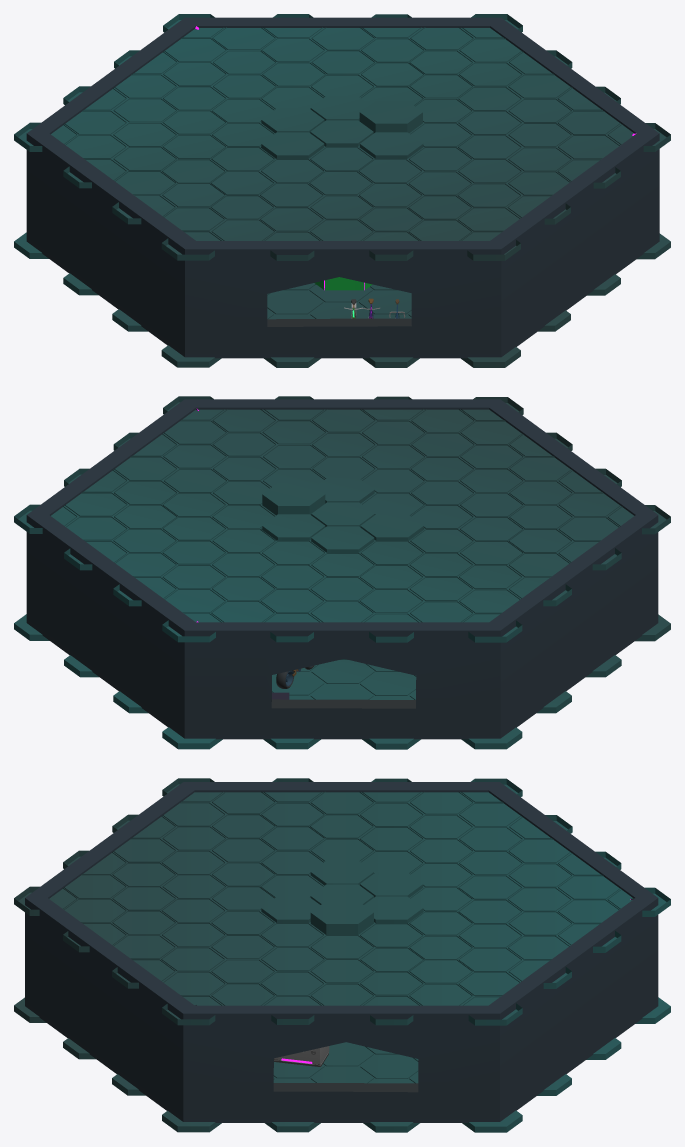
File: LabIngenia.fbx
3 views of the same model, one above another, from view 1: azimuth 30°, elevation 25°; view 2: azimuth 150°, elevation 25°; view 3: azimuth 270°, elevation 25° (orthographic).
Parts seen in each view (by area): view 1: Cylinder.002, Paredes, Cylinder.001, Cylinder.004, Cylinder.003; view 2: Cylinder.002, Paredes, Cylinder.001, Cylinder.004; view 3: Cylinder.002, Paredes, Cylinder.001, Cylinder.004, 6.002.
Part boxes in pixels (x1,y1,x2,y2): Cylinder.002: (14,14,670,260); Paredes: (26,17,659,358); Cylinder.001: (14,232,670,367); Cylinder.004: (261,96,423,158); Cylinder.003: (314,277,372,290); Cylinder.002: (14,396,670,642); Paredes: (26,399,658,739); Cylinder.001: (14,614,670,749); Cylinder.004: (262,478,423,659); Cylinder.002: (14,778,670,1025); Paredes: (25,782,658,1122); Cylinder.001: (14,997,670,1132); Cylinder.004: (261,860,423,935); 6.002: (274,1046,329,1066).
Size of the model in its own units: 1803 by 486 by 2075.
Materials: 17 (13 with a texture image).
